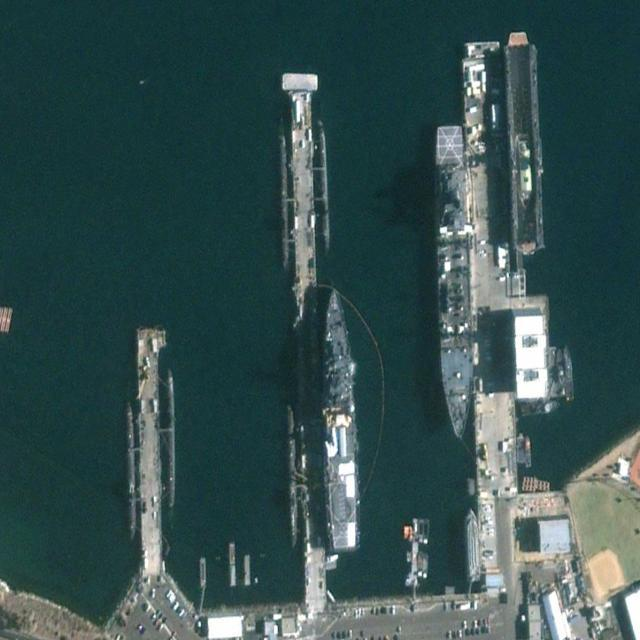Commander: (433, 123, 475, 441)
Landing: (313, 288, 363, 554)
Submarine: (283, 402, 301, 550), (277, 117, 290, 269), (164, 368, 178, 509), (124, 397, 137, 544), (317, 114, 330, 260)
